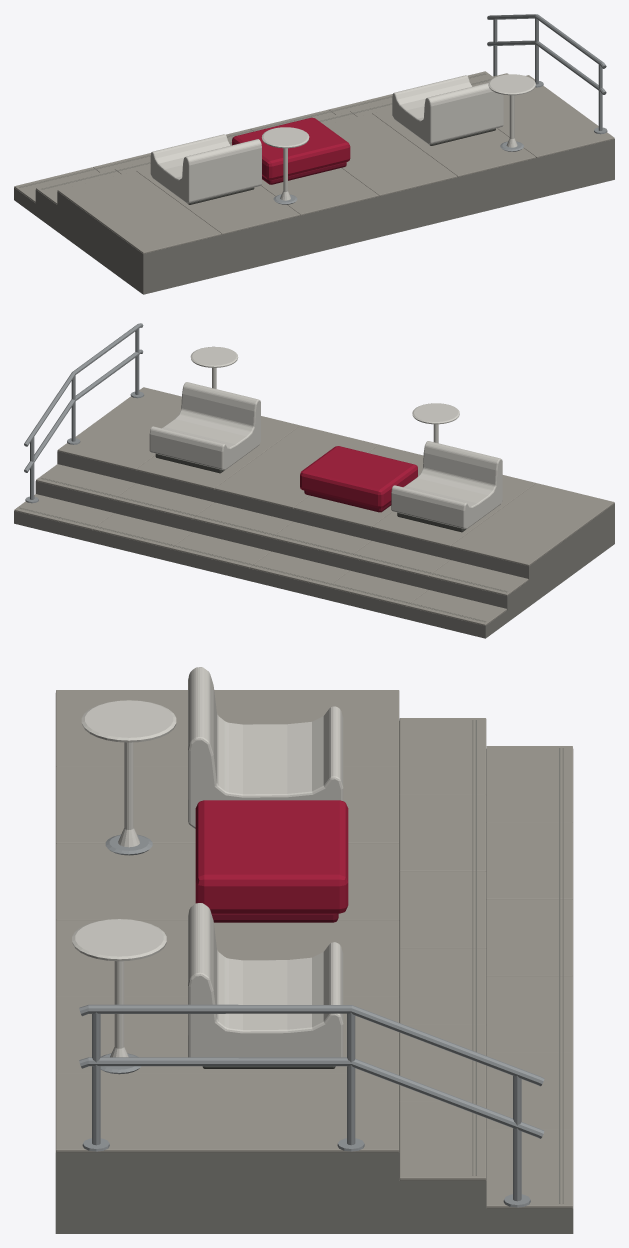
File: terrace.glb
The picture shows the model from 3 angles, top to bottom: view 1: azimuth 30°, elevation 25°; view 2: azimuth 150°, elevation 25°; view 3: azimuth 270°, elevation 25°; orthographic projection. The views are drawn at different scales.
Parts seen in each view (by area): view 1: SebitTerrace; view 2: SebitTerrace; view 3: SebitTerrace.
Boxes of the visible parts, left/top/right/bottom form: SebitTerrace: left=14, top=14, right=614, bottom=294; SebitTerrace: left=14, top=323, right=614, bottom=638; SebitTerrace: left=55, top=667, right=573, bottom=1233.
Bounding box in the file's own units: 5.66 × 1.28 × 2.68.
